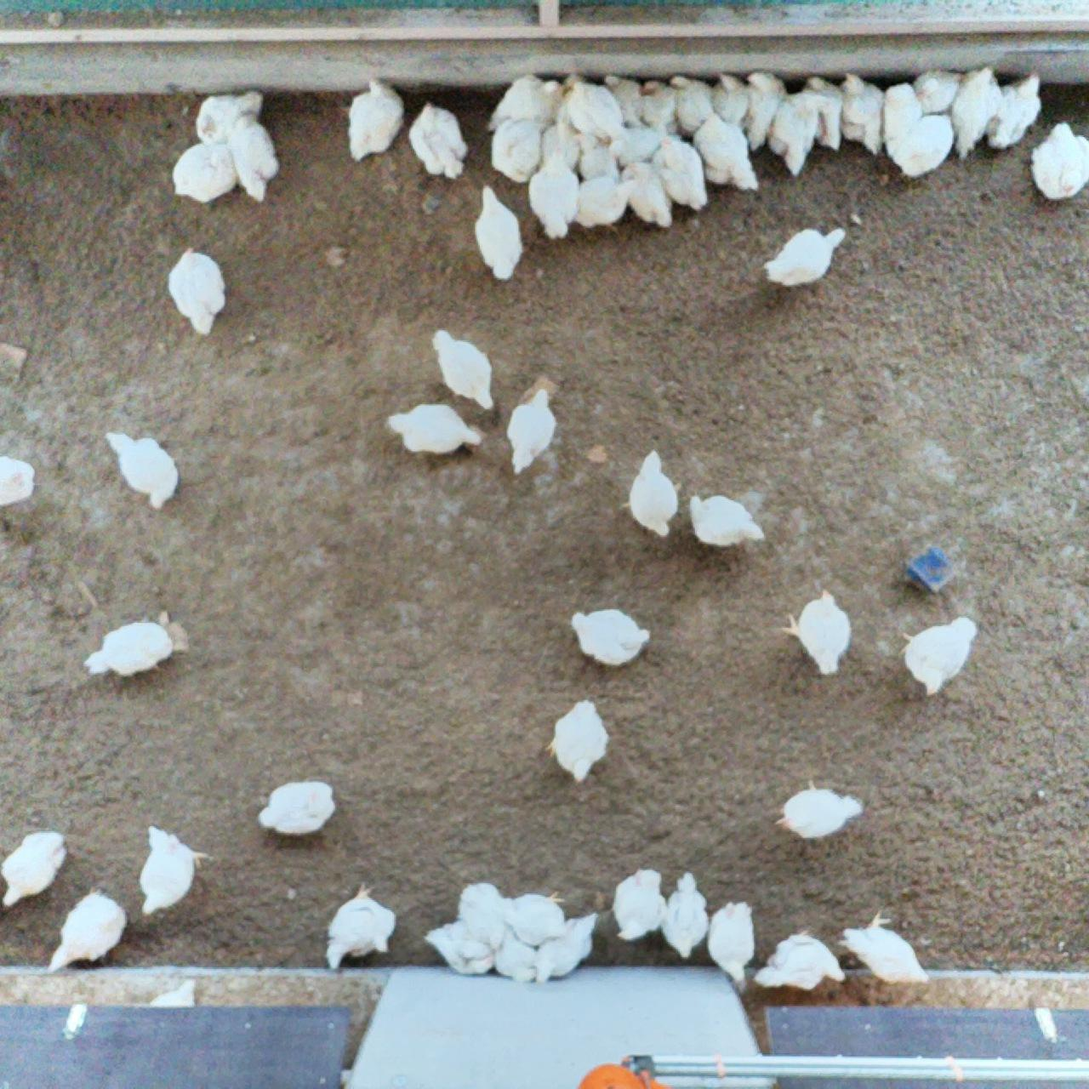chicken: (76, 608, 192, 682), (43, 884, 134, 977), (837, 907, 935, 988), (137, 819, 212, 923), (318, 879, 400, 974), (892, 612, 981, 698), (780, 584, 857, 681), (428, 324, 503, 423), (101, 427, 183, 517), (748, 925, 848, 998), (541, 694, 613, 789), (162, 243, 232, 338), (619, 445, 685, 544), (772, 774, 867, 842), (471, 179, 529, 286), (0, 825, 73, 910), (760, 224, 851, 292), (384, 398, 483, 460), (342, 74, 409, 165), (225, 112, 284, 208), (407, 100, 473, 185), (569, 606, 654, 672), (950, 63, 1006, 163), (256, 776, 343, 840), (685, 487, 768, 554), (696, 108, 760, 194), (986, 70, 1051, 154), (483, 69, 567, 134), (534, 910, 604, 988), (168, 126, 237, 205), (764, 86, 821, 180), (505, 383, 562, 477), (1028, 117, 1089, 202), (702, 897, 759, 987), (560, 72, 631, 144), (609, 865, 669, 946), (421, 912, 494, 978), (651, 135, 711, 215), (529, 148, 580, 242), (662, 868, 712, 961), (186, 88, 269, 144), (497, 886, 568, 950), (890, 111, 957, 178), (621, 157, 680, 229), (573, 172, 641, 234), (487, 112, 548, 181), (741, 67, 788, 155), (457, 876, 510, 953), (840, 70, 887, 155), (801, 72, 848, 153), (881, 80, 925, 158), (536, 105, 583, 175), (668, 71, 716, 137), (911, 65, 967, 120), (493, 923, 541, 987), (636, 77, 684, 140), (709, 68, 752, 128), (603, 72, 647, 127), (572, 130, 619, 181), (0, 452, 37, 516), (606, 125, 665, 165), (147, 975, 200, 1009)
